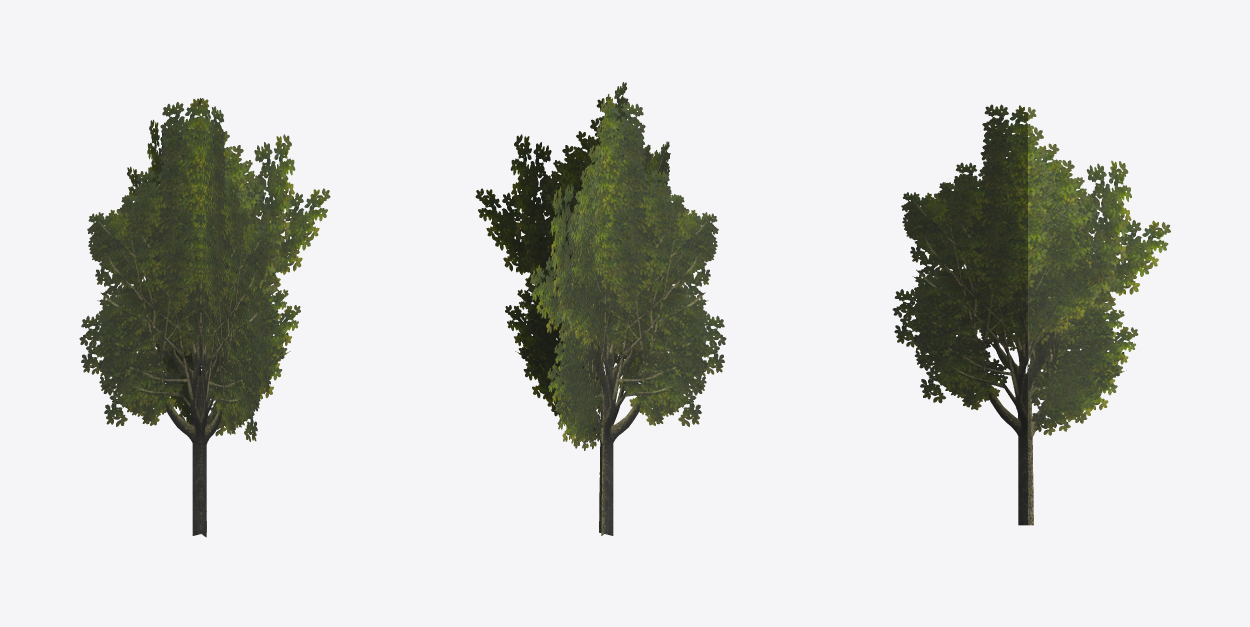
Rendered from Red_Hickory_Fan_0.obj.
3 renders of one model, left to right at view 1: azimuth 30°, elevation 25°; view 2: azimuth 150°, elevation 25°; view 3: azimuth 270°, elevation 25°, orthographic. The views are drawn at different scales.
Visible parts, largest first — view 1: CreateFan; view 2: CreateFan; view 3: CreateFan.
Part boxes in pixels (left/top/right/bottom): CreateFan: left=79, top=98, right=330, bottom=537; CreateFan: left=475, top=82, right=726, bottom=535; CreateFan: left=892, top=104, right=1170, bottom=525.
Size of the model in its own units: 22.23 by 25 by 22.23.
1 material, 1 textured.
